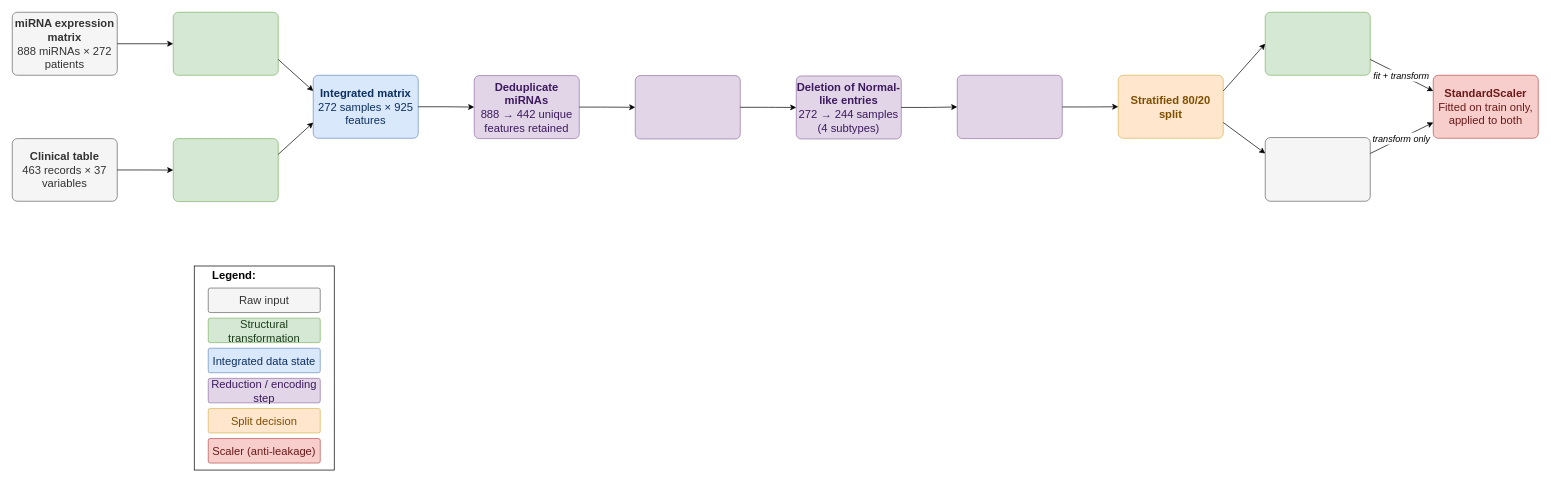
The diagram is 1551 pixels wide and 482 high, and some of its shapes have lost their labels. The shapes that lost their labels are listed below. From the top down, each one's centre as x and y in pixels, then its label:
At pixel 225 43: "Transpose + align Rows → patients (272 × 888)".
At pixel 1317 43: "Train set n = 195 samples".
At pixel 687 107: "Drop uninformative columns 15 clinical columns removed".
At pixel 1009 107: "Categorical encoding 462 features, fully numeric".
At pixel 225 170: "Restrict to matched patients 463 → 272 patients".
At pixel 1317 169: "Test set n = 49 samples".
